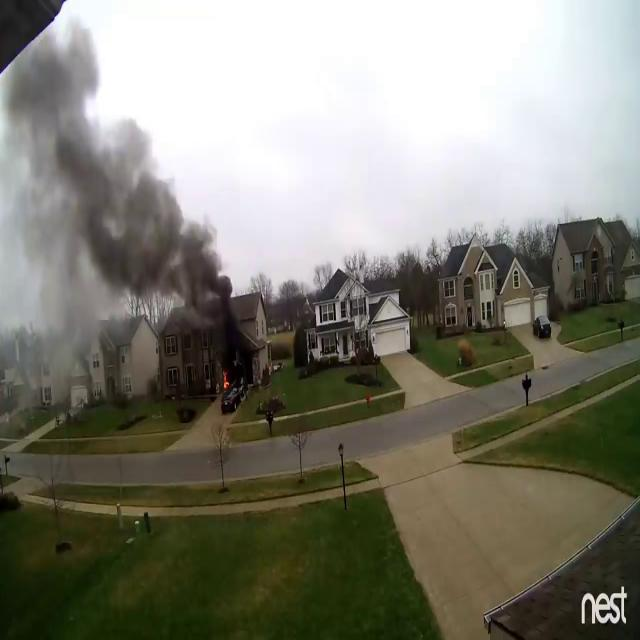Fire: (218, 370, 232, 393)
Smoke: (10, 48, 254, 388)
